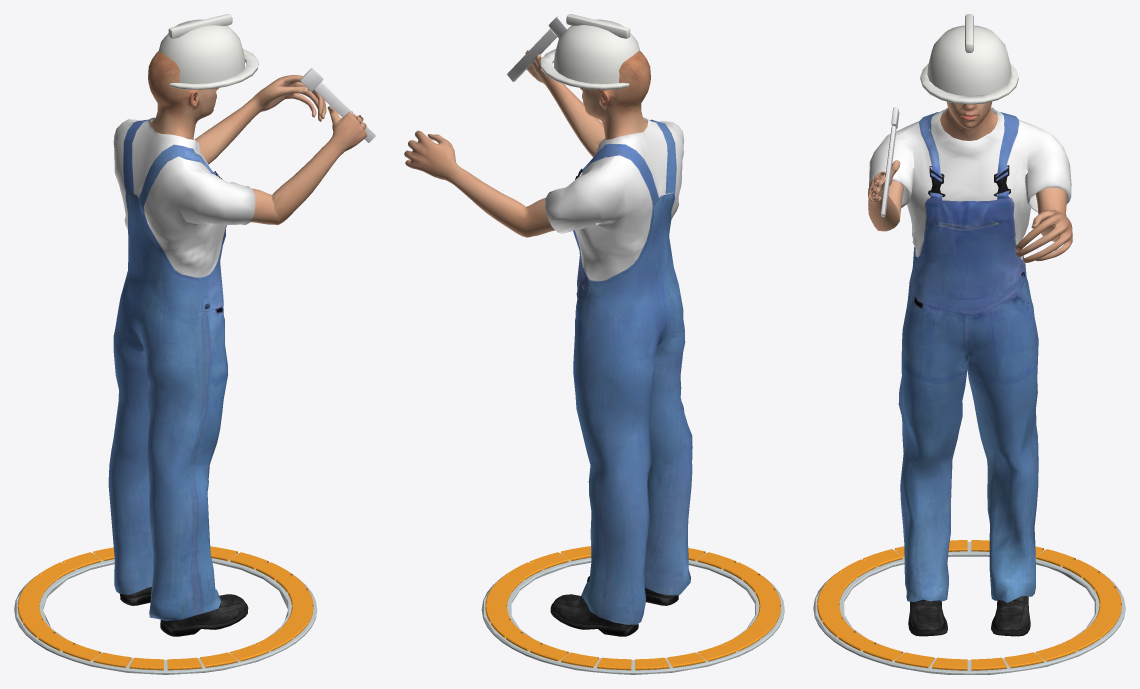
Rendered from MDO-OBR-010_lod1.glb.
The picture shows the model from 3 angles, left to right: view 1: azimuth 30°, elevation 25°; view 2: azimuth 150°, elevation 25°; view 3: azimuth 270°, elevation 25°; orthographic projection. The views are drawn at different scales.
Visible parts, largest first — view 1: MDO-OBR-010_pessoa_male_worksuit01, MDO-OBR-010_pessoa, MDO-OBR-010_capacete, MDO-OBR-010_anel_fundo, MDO-OBR-010_pessoa_shoes04, MDO-OBR-010_capacete_aba, MDO-OBR-010_capacete_friso, MDO-OBR-010_ferD_cabo; view 2: MDO-OBR-010_pessoa_male_worksuit01, MDO-OBR-010_pessoa, MDO-OBR-010_capacete, MDO-OBR-010_anel_fundo, MDO-OBR-010_pessoa_shoes04, MDO-OBR-010_capacete_aba, MDO-OBR-010_ferD_cabo, MDO-OBR-010_capacete_friso; view 3: MDO-OBR-010_pessoa_male_worksuit01, MDO-OBR-010_pessoa, MDO-OBR-010_capacete, MDO-OBR-010_anel_fundo, MDO-OBR-010_pessoa_shoes04, MDO-OBR-010_capacete_aba, MDO-OBR-010_ferD_cabo.
Part boxes in pixels (x1,y1,x2,y2): MDO-OBR-010_pessoa_male_worksuit01: (108,117,255,620); MDO-OBR-010_pessoa: (148,51,367,224); MDO-OBR-010_capacete: (158,19,244,83); MDO-OBR-010_anel_fundo: (14,553,317,674); MDO-OBR-010_pessoa_shoes04: (120,587,248,636); MDO-OBR-010_capacete_aba: (169,49,258,89); MDO-OBR-010_capacete_friso: (168,14,232,38); MDO-OBR-010_ferD_cabo: (314,82,375,142); MDO-OBR-010_pessoa_male_worksuit01: (545,117,692,624); MDO-OBR-010_pessoa: (404,50,650,237); MDO-OBR-010_capacete: (554,19,640,83); MDO-OBR-010_anel_fundo: (481,553,784,674); MDO-OBR-010_pessoa_shoes04: (550,576,678,636); MDO-OBR-010_capacete_aba: (540,49,629,89); MDO-OBR-010_ferD_cabo: (507,28,556,81); MDO-OBR-010_capacete_friso: (566,14,630,38); MDO-OBR-010_pessoa_male_worksuit01: (869,107,1071,602); MDO-OBR-010_pessoa: (868,101,1072,262); MDO-OBR-010_capacete: (927,25,1011,95); MDO-OBR-010_anel_fundo: (813,541,1125,674); MDO-OBR-010_pessoa_shoes04: (908,596,1030,636); MDO-OBR-010_capacete_aba: (920,64,1018,104); MDO-OBR-010_ferD_cabo: (880,126,896,217).
Bounding box in the file's own units: 1.03 × 1.79 × 0.84.
Materials: 9 (5 with a texture image).
